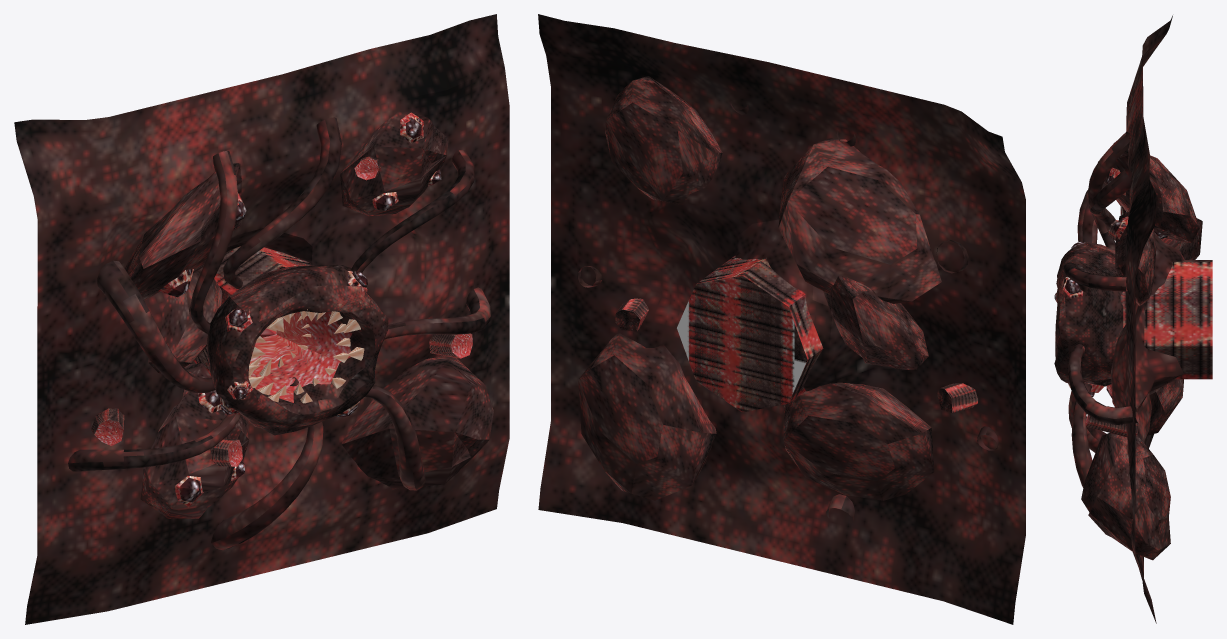
Rendered from WallThing.fbx.
The picture shows the model from 3 angles, left to right: view 1: azimuth 30°, elevation 25°; view 2: azimuth 150°, elevation 25°; view 3: azimuth 270°, elevation 25°; orthographic projection. The views are drawn at different scales.
Visible parts, largest first — view 1: Plane, BézierCurve.002, Cylinder.001, Cylinder, Cube.001, Cube; view 2: Plane, Cylinder, BézierCurve.002; view 3: Plane, BézierCurve.002, Cylinder.001, Cylinder.
Boxes of the visible parts, x1,y1,x2,y2 form: Plane: (14,14,509,624); BézierCurve.002: (68,117,490,550); Cylinder.001: (207,264,388,435); Cylinder: (193,246,314,375); Cube.001: (248,311,350,395); Cube: (248,309,364,403); Plane: (538,14,1025,624); Cylinder: (677,255,823,412); BézierCurve.002: (578,100,998,521); Plane: (1081,15,1202,623); BézierCurve.002: (1063,131,1139,487); Cylinder.001: (1054,241,1123,396); Cylinder: (1119,260,1212,379).
Bounding box in the file's own units: 724 × 725 × 249.
